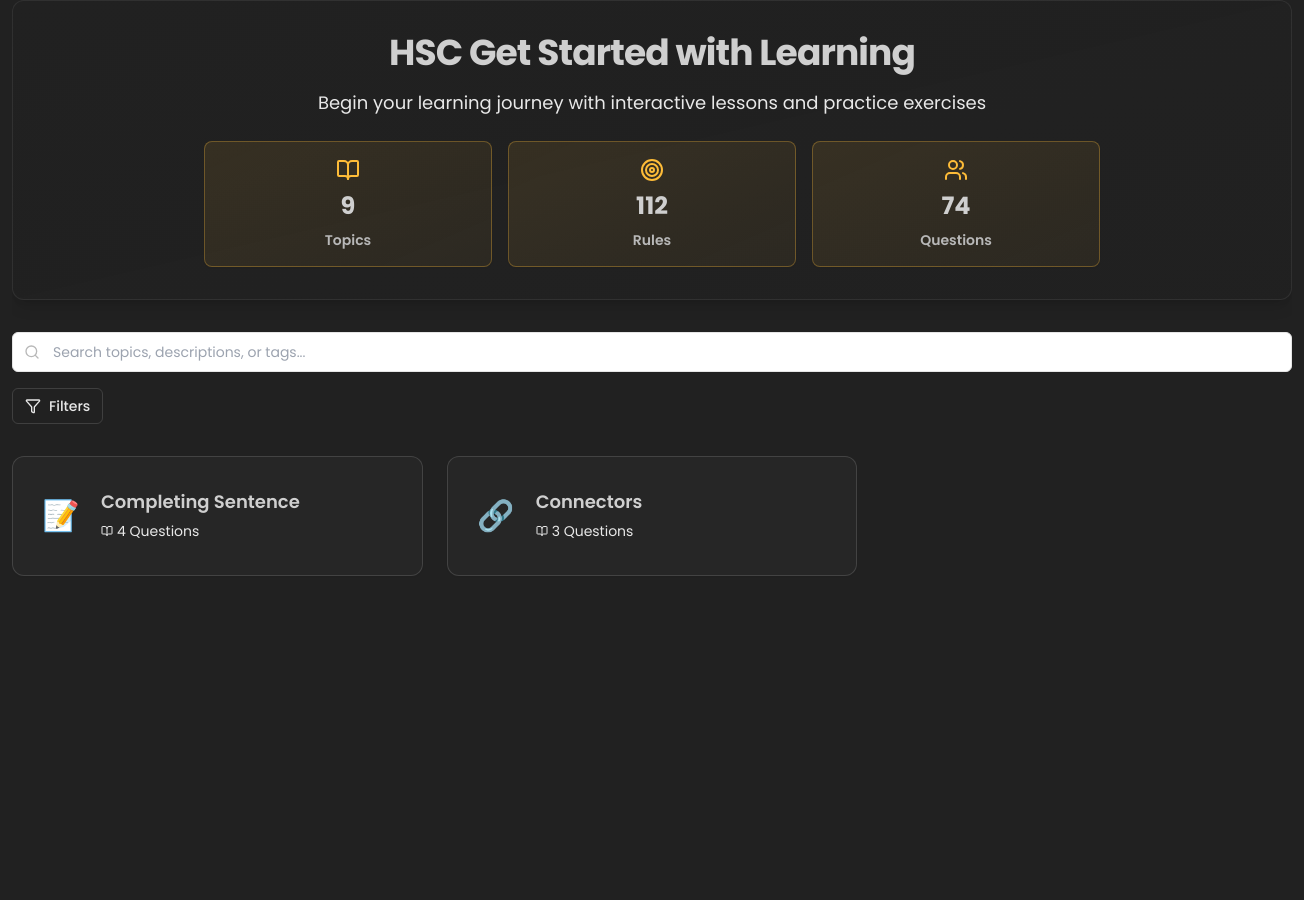
Test: UniversalTopicNavigation › shows no results message when no topics match filters
Type "nonexistent topic" into the field with placeholder "Search topics, descriptions, or tags..." at (652, 352), box [12,332,1292,372]
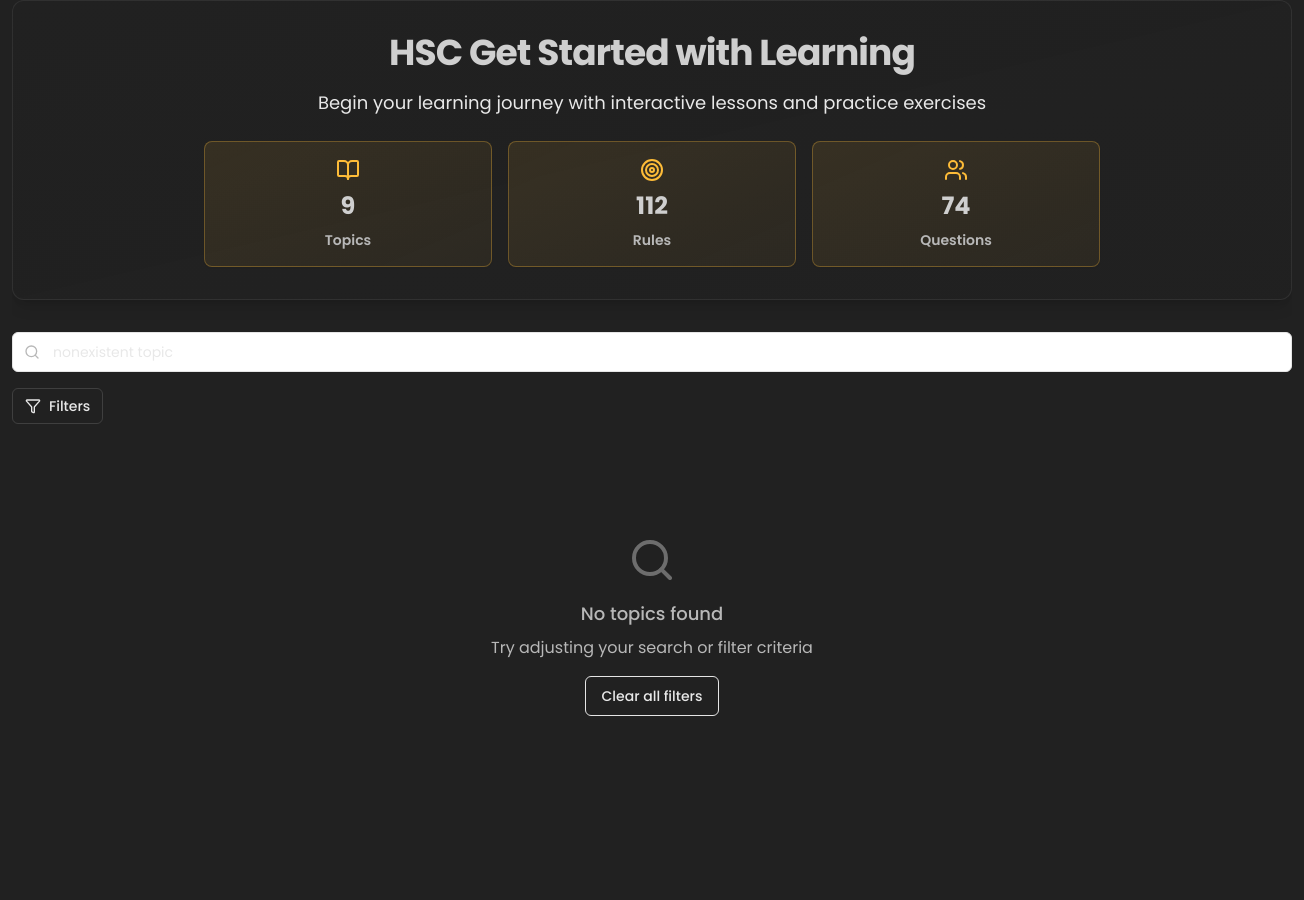
Expected: the heading "No topics found" is shown, [581,601,723,626]
Expected: the text "Try adjusting your search or filter criteria" is shown, [491,636,813,659]
